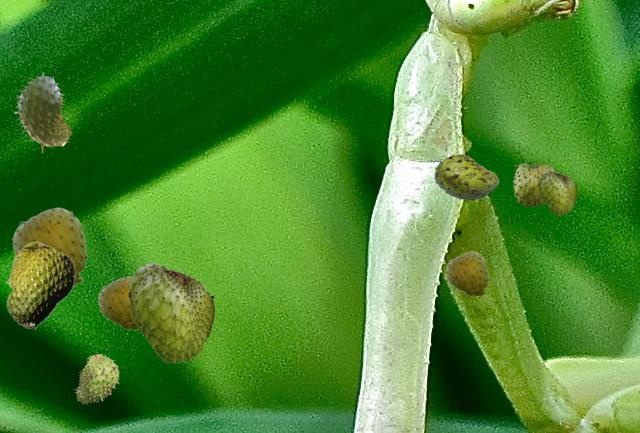guyabano: (128, 261, 214, 362), (5, 241, 75, 329), (11, 207, 87, 287), (14, 72, 71, 152), (434, 154, 498, 199), (97, 276, 137, 330), (74, 354, 118, 403), (512, 161, 556, 206), (445, 251, 488, 296), (538, 169, 576, 214)
